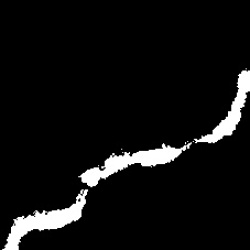crack: (78, 70, 248, 189), (4, 191, 89, 248)
